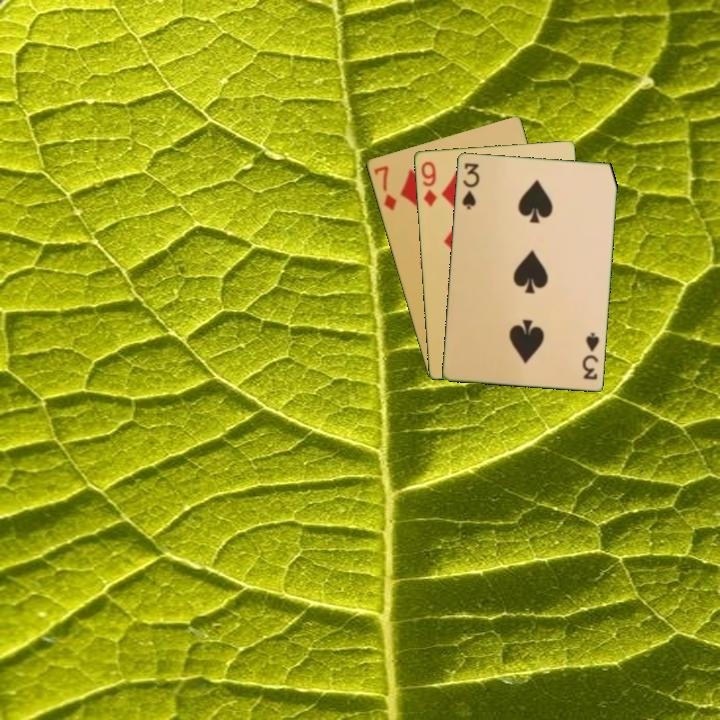3s: (458, 159, 482, 212), (578, 329, 602, 382)
7d: (370, 162, 399, 213)
9d: (417, 157, 440, 210)
